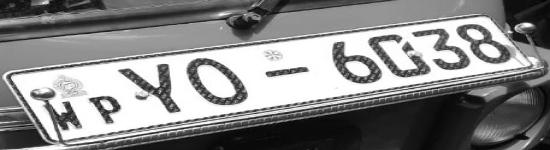-: (260, 64, 312, 78)
0: (359, 30, 439, 82)
3: (406, 24, 482, 73)
6: (316, 37, 397, 89)
8: (445, 20, 524, 67)
O: (182, 56, 253, 107)
P: (85, 94, 126, 126)
W: (42, 100, 84, 130)
Y: (119, 63, 180, 114)
